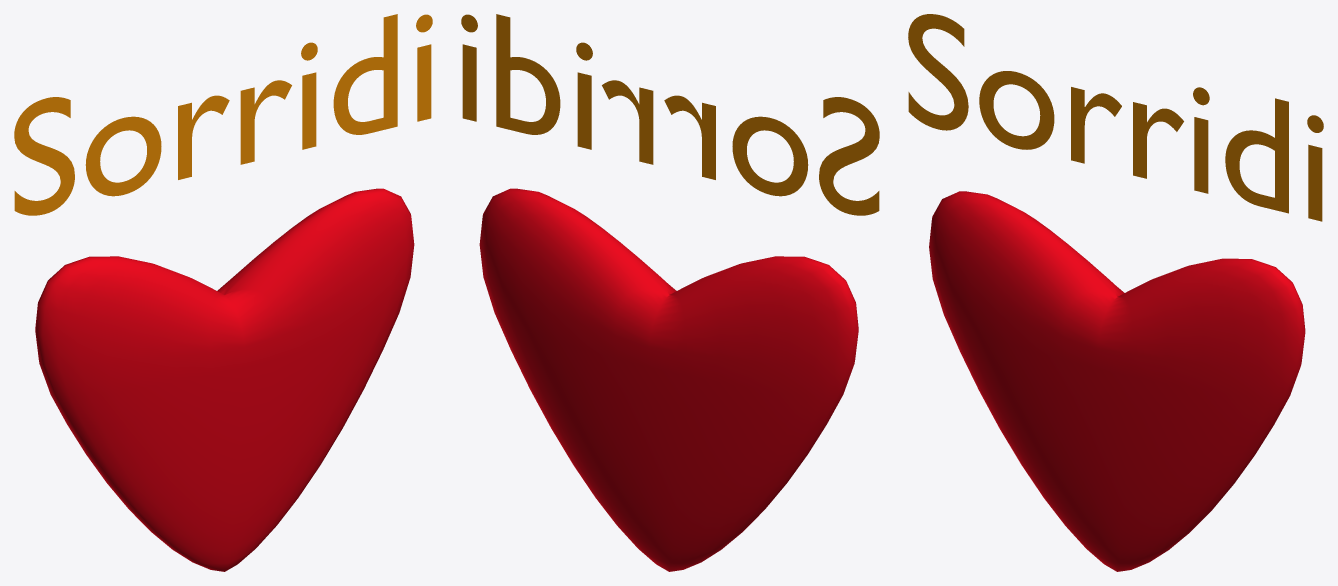
The model's file is cuore.fbx.
3 views of the same model, side by side, from view 1: azimuth 30°, elevation 25°; view 2: azimuth 150°, elevation 25°; view 3: azimuth 330°, elevation 25° (orthographic).
Parts seen in each view (by area): view 1: SurfSphere, Text; view 2: SurfSphere, Text; view 3: SurfSphere, Text.
Boxes of the visible parts, bbox=[...] form: SurfSphere: bbox=[35, 188, 414, 571]; Text: bbox=[14, 14, 432, 215]; SurfSphere: bbox=[479, 188, 858, 571]; Text: bbox=[461, 14, 879, 215]; SurfSphere: bbox=[929, 191, 1305, 571]; Text: bbox=[908, 14, 1323, 221].
Bounding box in the file's own units: 265 × 313 × 43.28.
